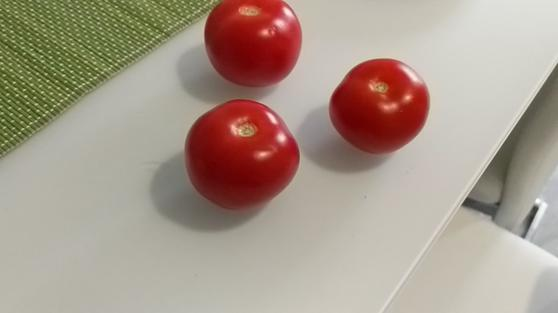tomato: (184, 97, 300, 209), (330, 56, 430, 153), (202, 1, 301, 89)
